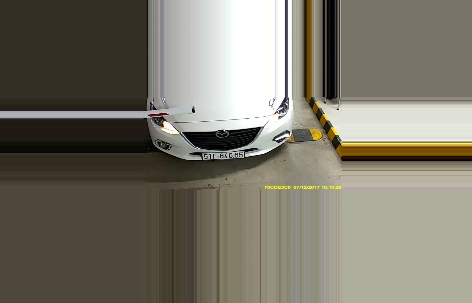plate: (199, 148, 244, 160)
